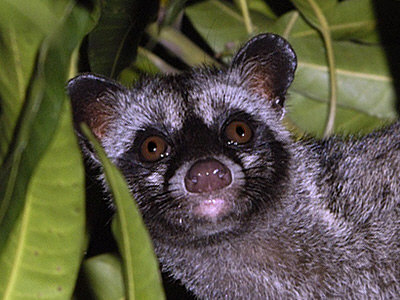Civet: (59, 27, 400, 300)
